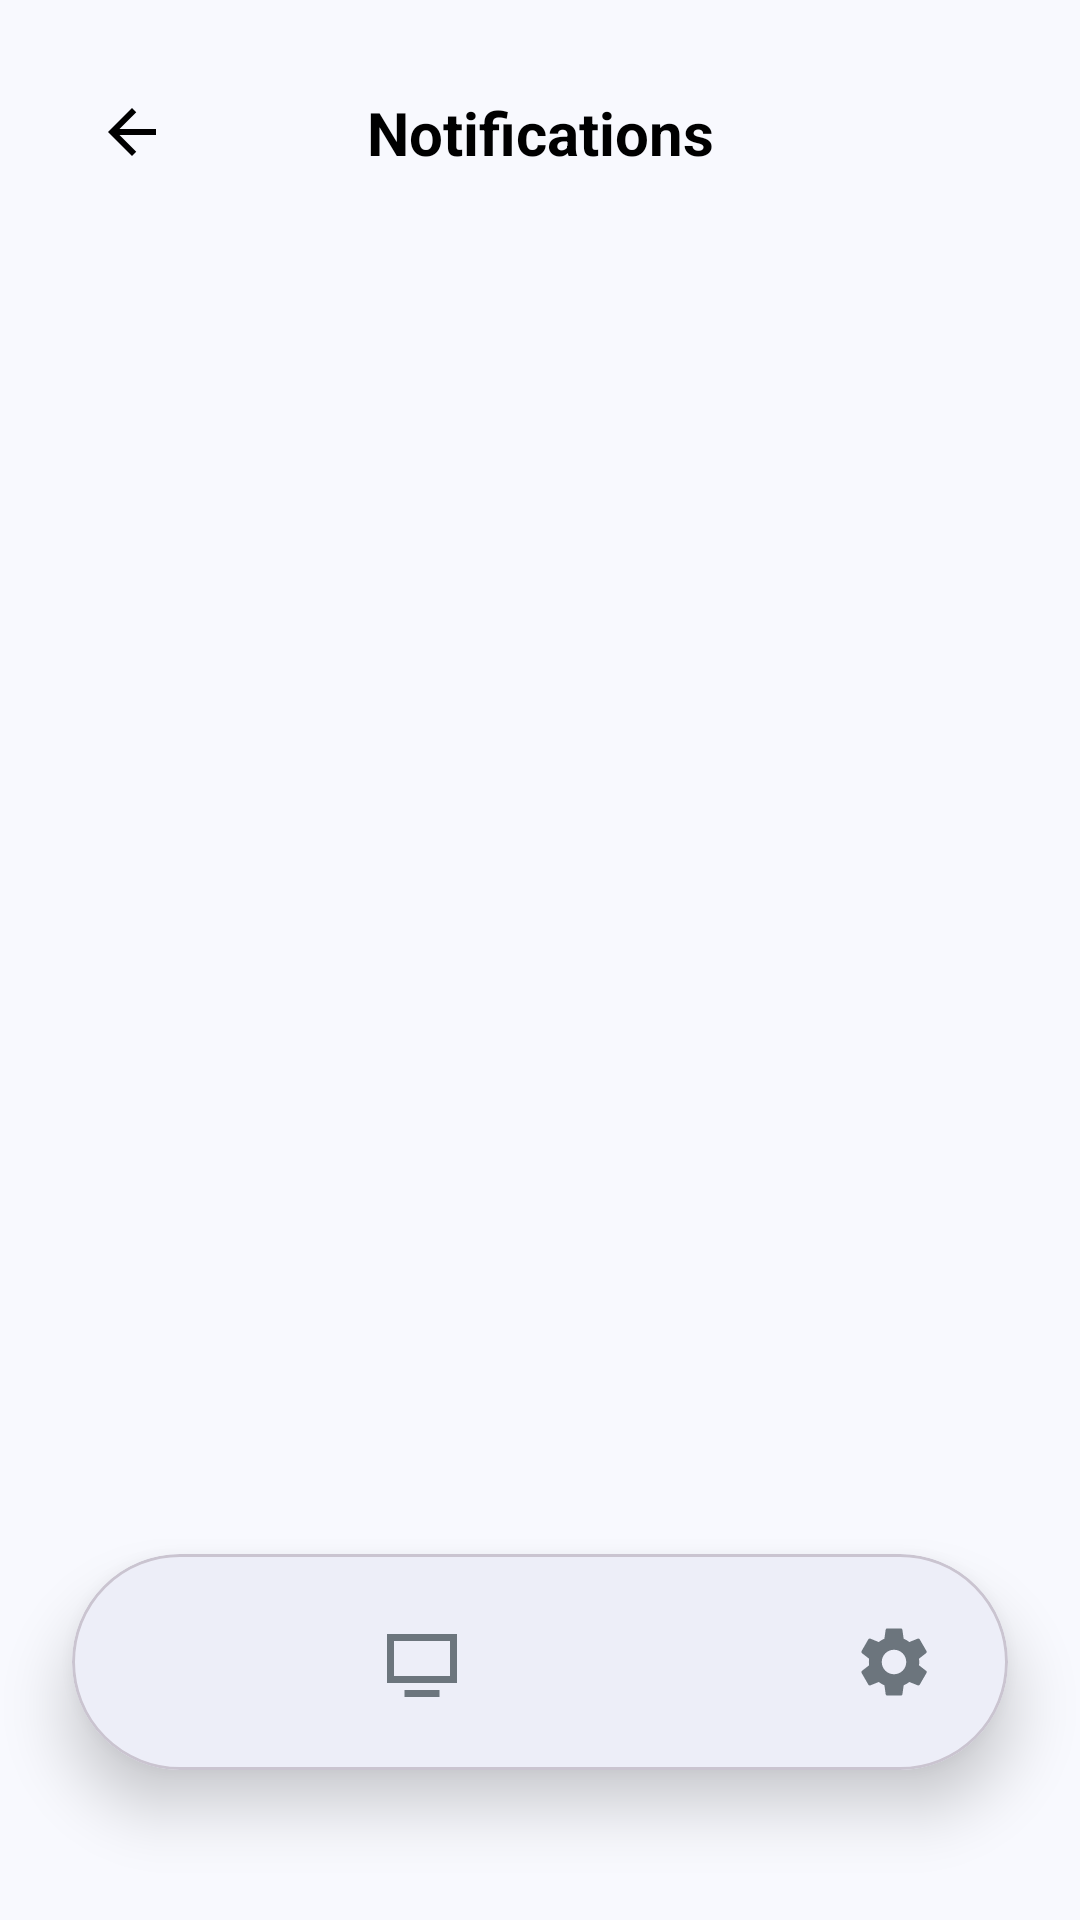

Icons on this 1080*1920 Android screen, each with the point to tap as (x=x, y=y):
arrow back: (x=132, y=132)
devices: (x=422, y=1665)
settings: (x=894, y=1662)
